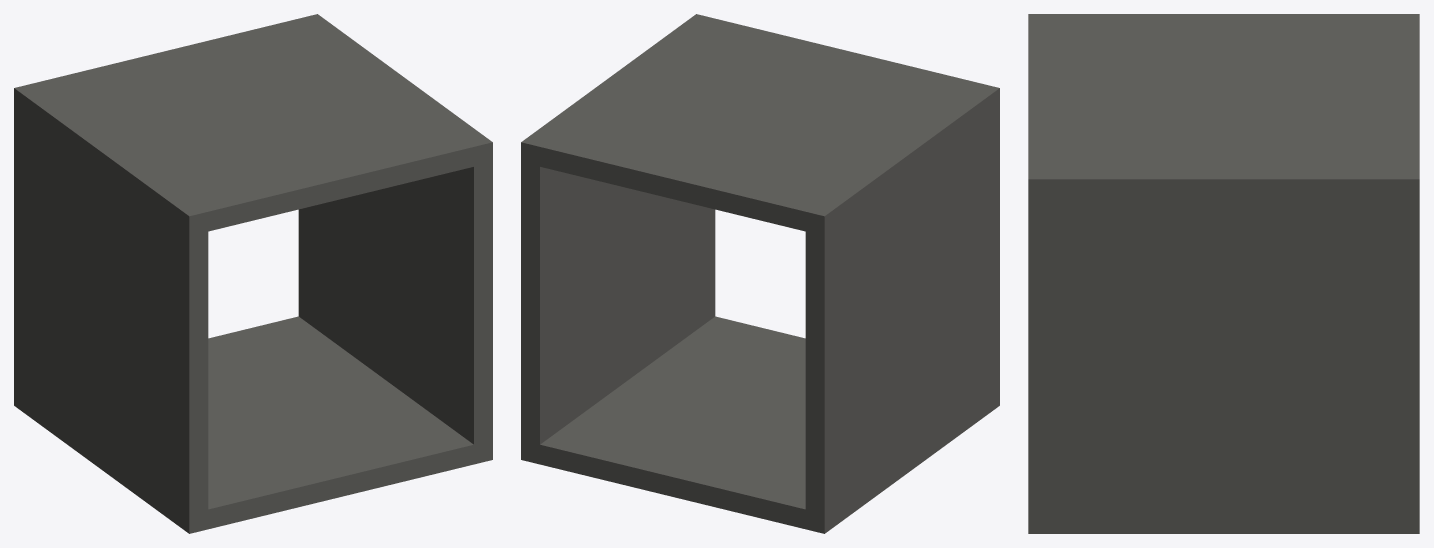
File: vent.glb
The picture shows the model from 3 angles, left to right: view 1: azimuth 30°, elevation 25°; view 2: azimuth 150°, elevation 25°; view 3: azimuth 270°, elevation 25°; orthographic projection. The views are drawn at different scales.
Parts seen in each view (by area): view 1: vent; view 2: vent; view 3: vent.
Part boxes in pixels (x1=…): vent: x1=14, y1=14, x2=492, y2=533; vent: x1=521, y1=14, x2=999, y2=533; vent: x1=1028, y1=14, x2=1419, y2=533.
Bounding box in the file's own units: 1 × 1 × 1.
1 material, 1 textured.
